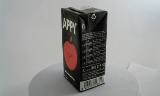appy: (56, 4, 101, 92)
